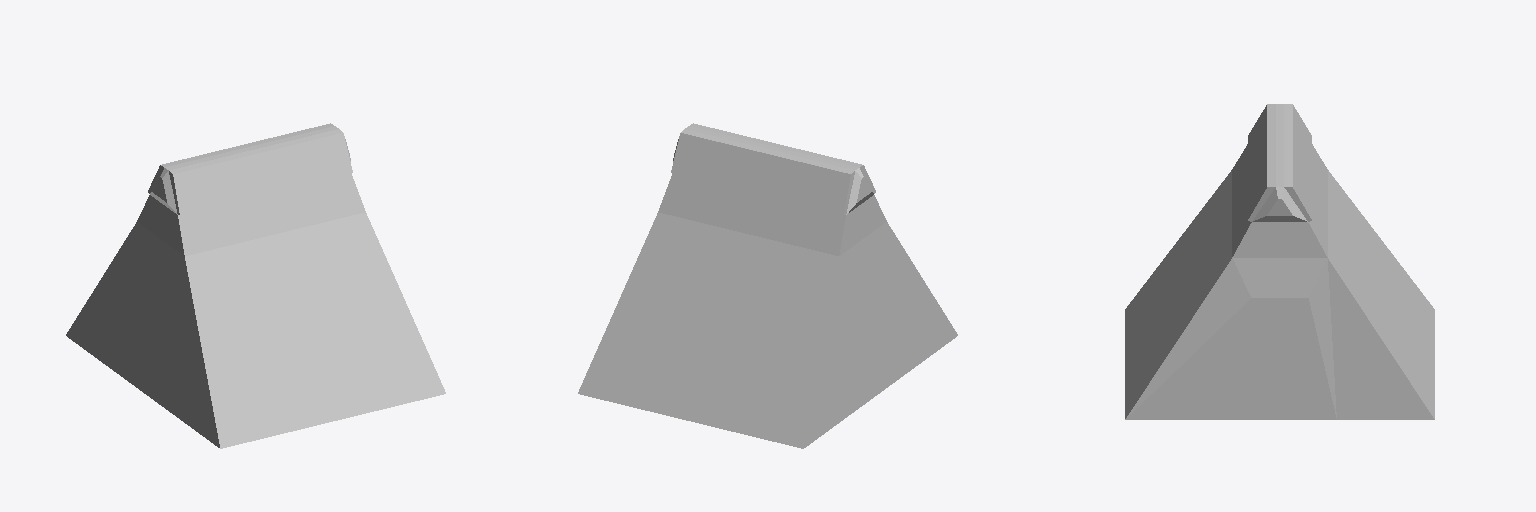
File: normal tent.obj
The picture shows the model from 3 angles: view 1: azimuth 30°, elevation 25°; view 2: azimuth 150°, elevation 25°; view 3: azimuth 270°, elevation 25°; orthographic projection.
Visible parts, largest first — view 1: normal_tent; view 2: normal_tent; view 3: normal_tent.
Boxes of the visible parts, x1=… form: normal_tent: x1=66, y1=123, x2=445, y2=448; normal_tent: x1=578, y1=123, x2=957, y2=448; normal_tent: x1=1125, y1=104, x2=1434, y2=419.
Size of the model in its own units: 6.05 by 5.56 by 7.18.